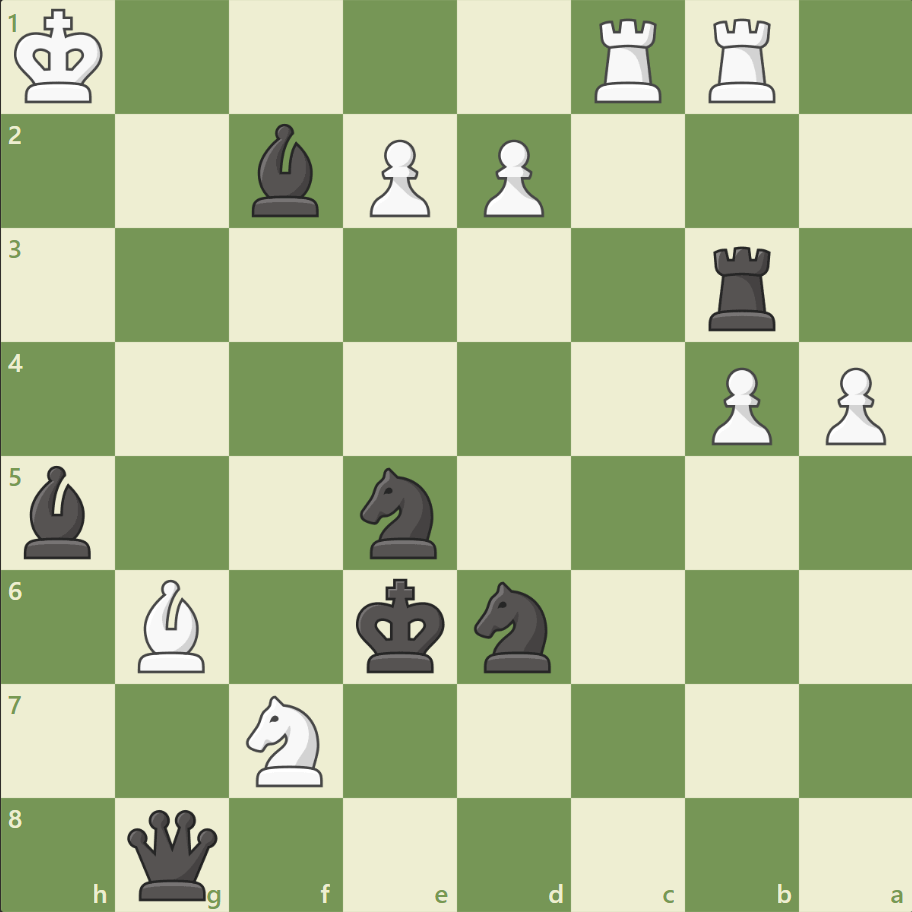B: (131, 574, 215, 676)
K: (11, 4, 111, 112)
N: (238, 688, 335, 791)
P: (701, 359, 776, 450), (474, 132, 549, 223), (815, 359, 889, 450), (361, 132, 435, 223)
R: (700, 12, 783, 109), (587, 12, 670, 109)
b: (17, 460, 101, 563), (244, 120, 328, 222)
k: (351, 571, 451, 679)
n: (351, 461, 449, 564), (465, 575, 562, 677)
q: (124, 804, 223, 903)
r: (700, 239, 783, 336)
